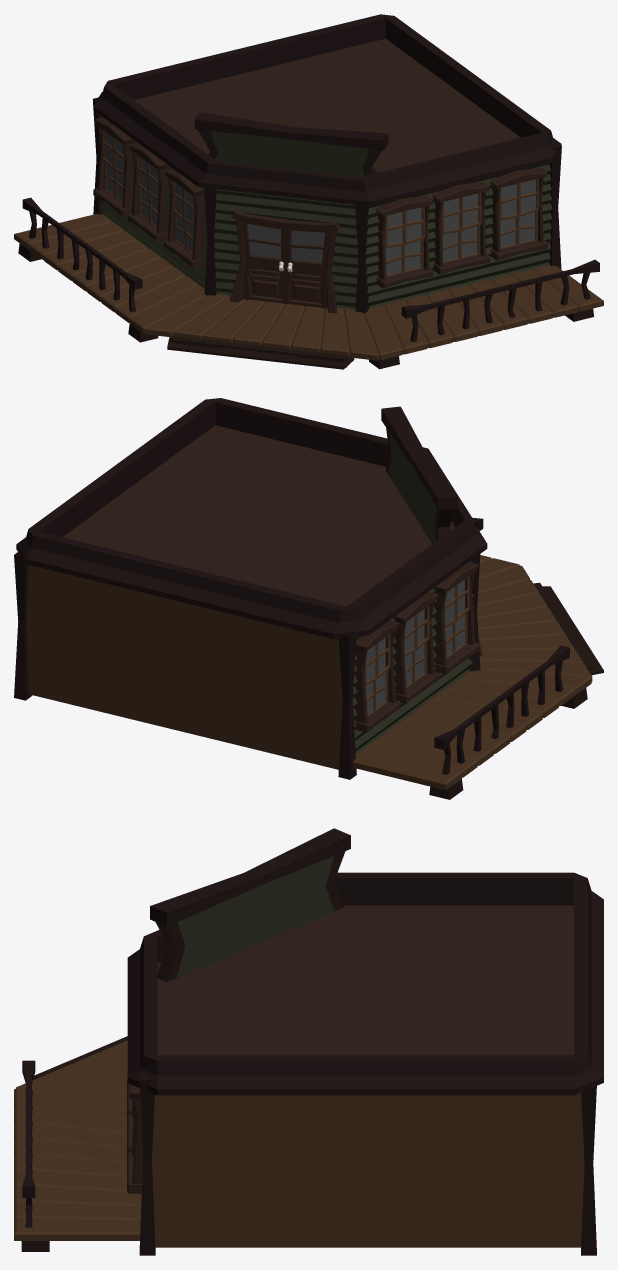
The model's file is Building09.fbx.
The picture shows the model from 3 angles, top to bottom: view 1: azimuth 30°, elevation 25°; view 2: azimuth 150°, elevation 25°; view 3: azimuth 270°, elevation 25°; orthographic projection. The views are drawn at different scales.
Visible parts, largest first — view 1: Cube.008; view 2: Cube.008; view 3: Cube.008.
Part boxes in pixels (bbox=[...]): Cube.008: bbox=[14, 14, 603, 369]; Cube.008: bbox=[14, 398, 603, 799]; Cube.008: bbox=[14, 828, 603, 1255].
Bounding box in the file's own units: 1007 × 451 × 1003.
